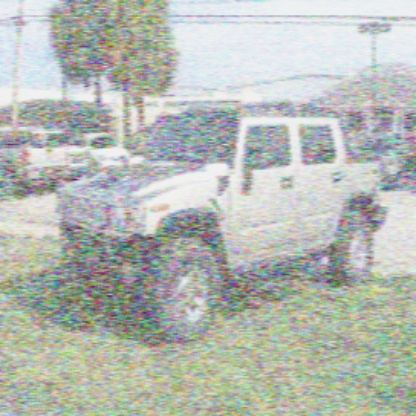Vehicle: (55, 96, 390, 350)
